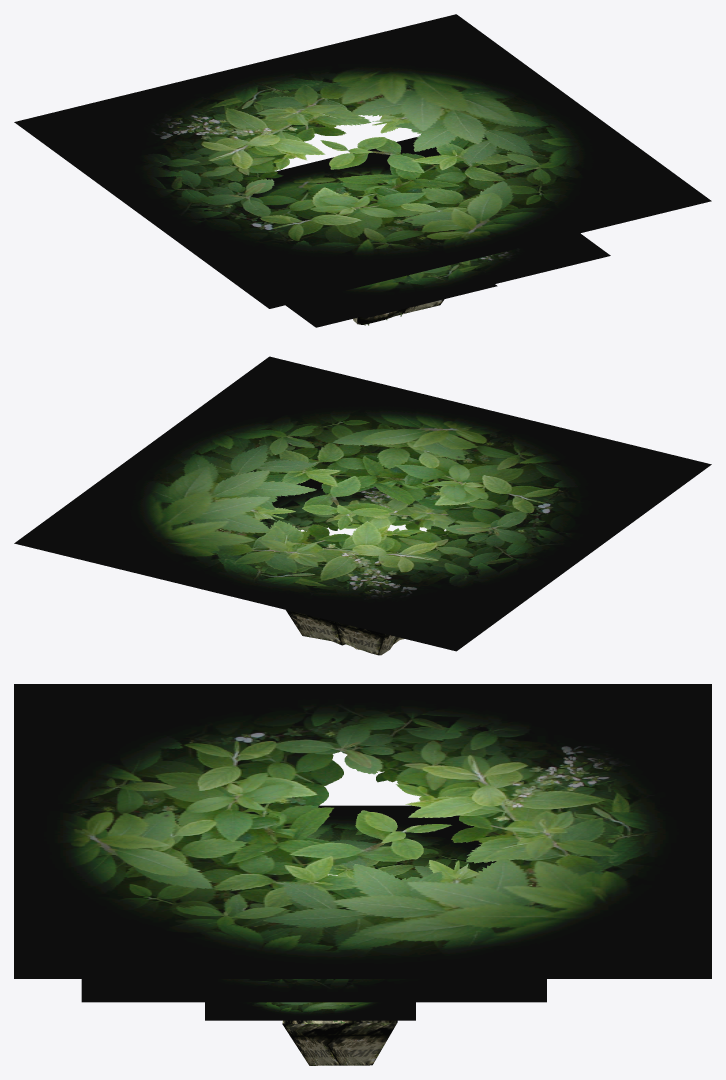
The model's file is Title Screen.obj.
3 renders of one model, top to bottom at view 1: azimuth 30°, elevation 25°; view 2: azimuth 150°, elevation 25°; view 3: azimuth 270°, elevation 25°, orthographic. The views are drawn at different scales.
Visible parts, largest first — view 1: Mesh_0002; view 2: Mesh_0002; view 3: Mesh_0002.
Part boxes in pixels (x1,y1,x2,y2): Mesh_0002: (14,14,711,327); Mesh_0002: (14,356,711,655); Mesh_0002: (14,684,711,1065).
Size of the model in its own units: 450 by 140 by 450.
5 materials, 5 textured.
